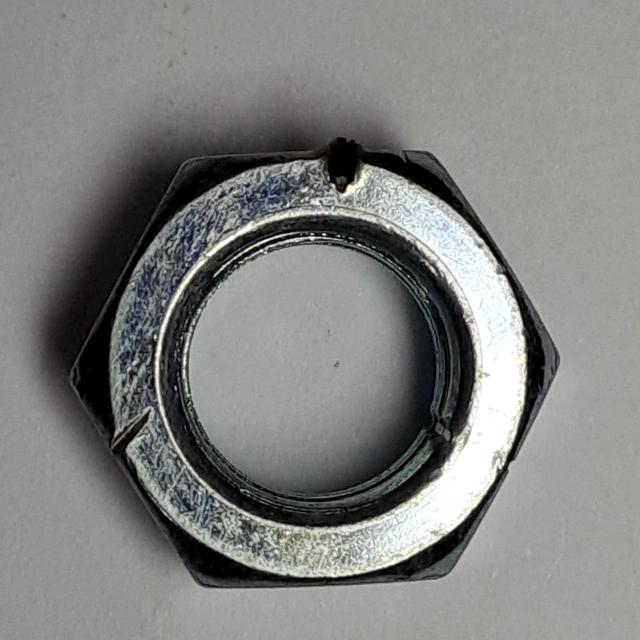Scratches: (53, 130, 573, 601)
